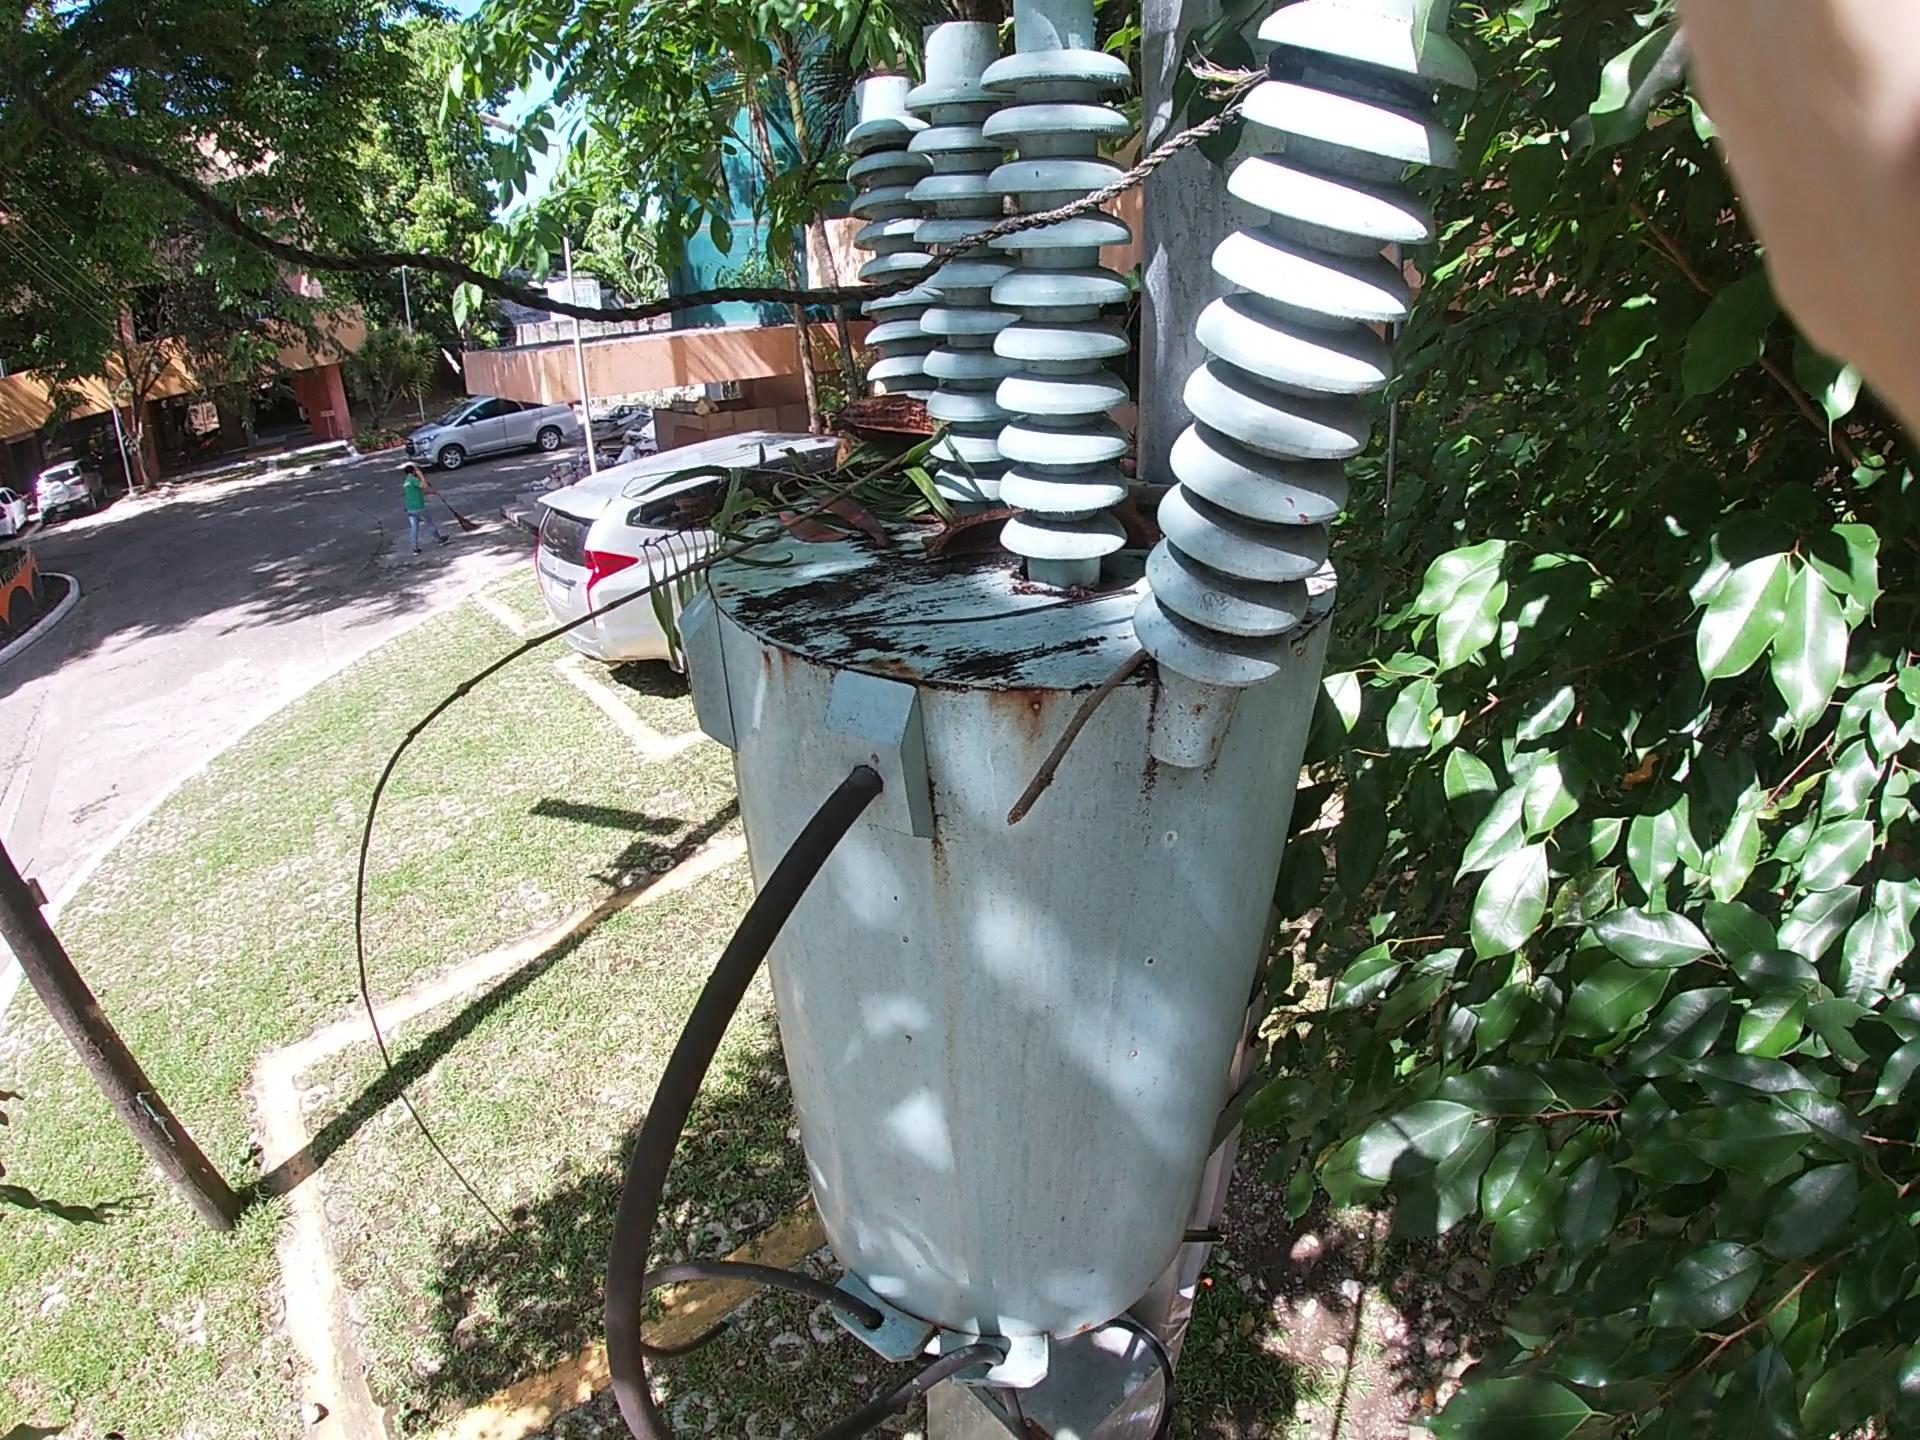branch with leaves: (650, 405, 996, 549)
leaf: (768, 475, 878, 557)
mahogany fruit: (845, 346, 972, 457), (884, 452, 1011, 555)
tree branch: (311, 473, 937, 936), (980, 659, 1166, 864)
